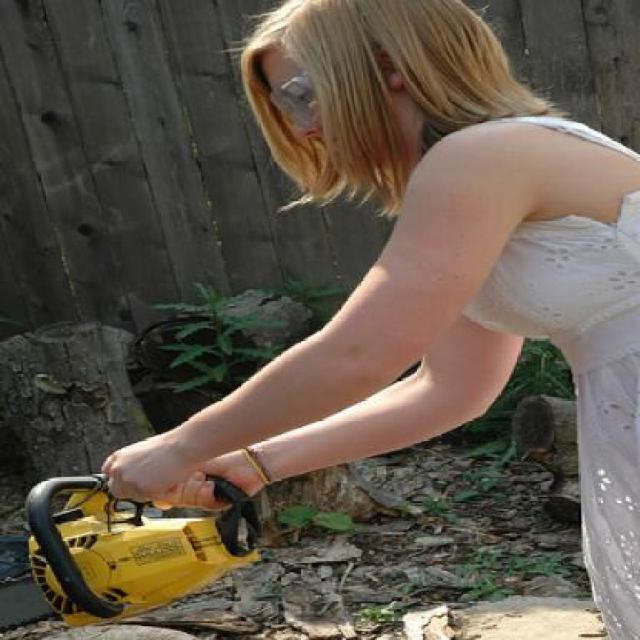Chainsaw: (0, 469, 262, 634)
